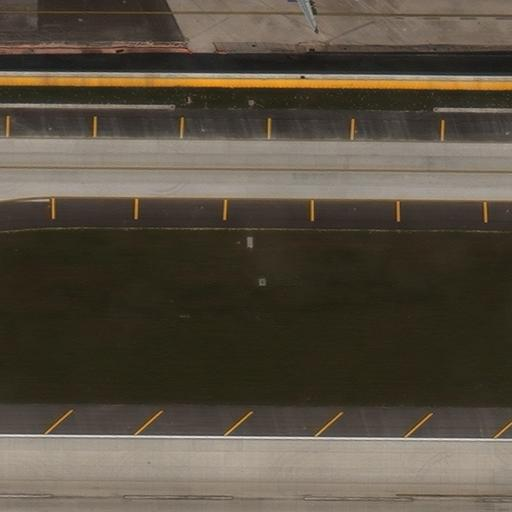Medium Civil Transport: (269, 0, 344, 30)
